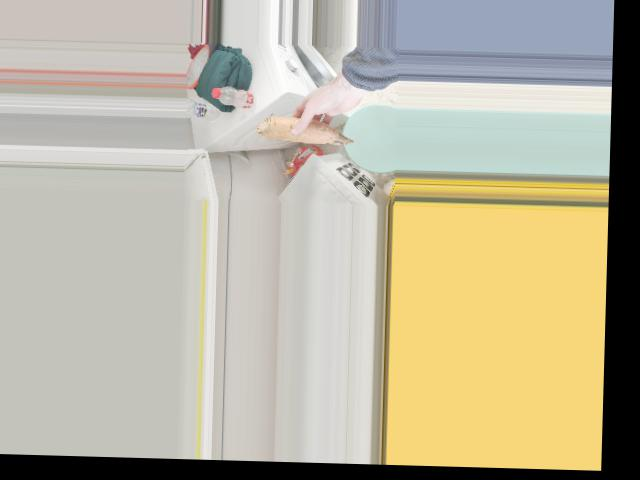sweet_potato: (252, 112, 348, 141)
